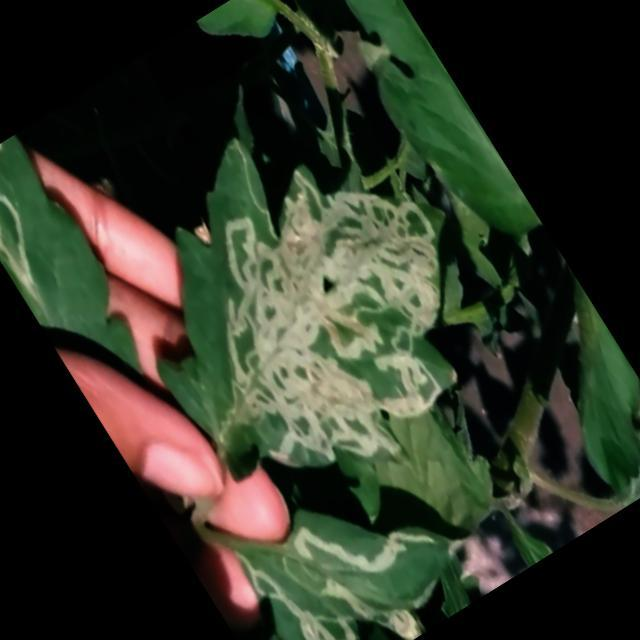Tomato target spot leaf: (71, 62, 546, 548), (226, 446, 486, 640), (0, 130, 166, 410)
